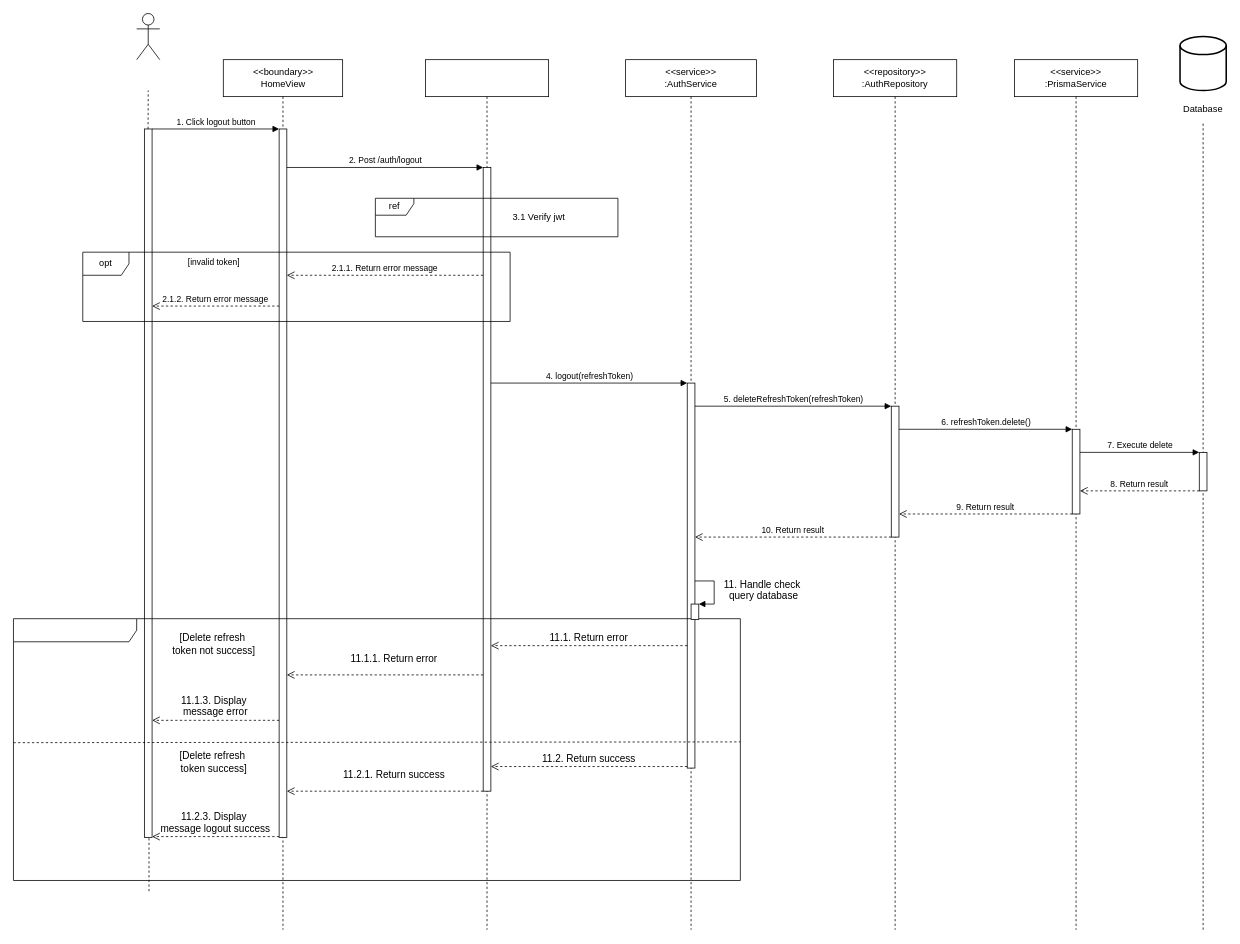
The diagram is 1240 pixels wide and 944 high, and some of its shapes have lost their labels. Each missing label, with the box of its shape:
<<controller>> :AuthController: (425, 59, 549, 930)
alt: (13, 618, 740, 880)
Client / Freelancer / Admin / Expert: (136, 13, 160, 60)
